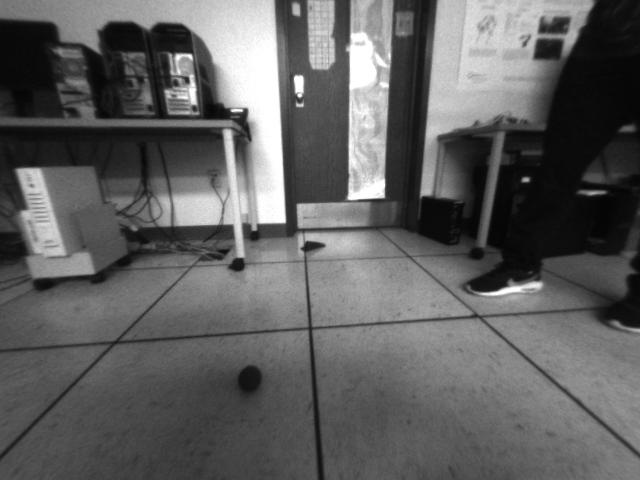dogtoy: (229, 360, 267, 399)
